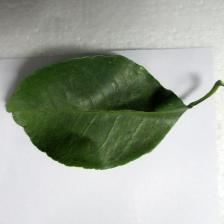healthy: (3, 55, 193, 171)
